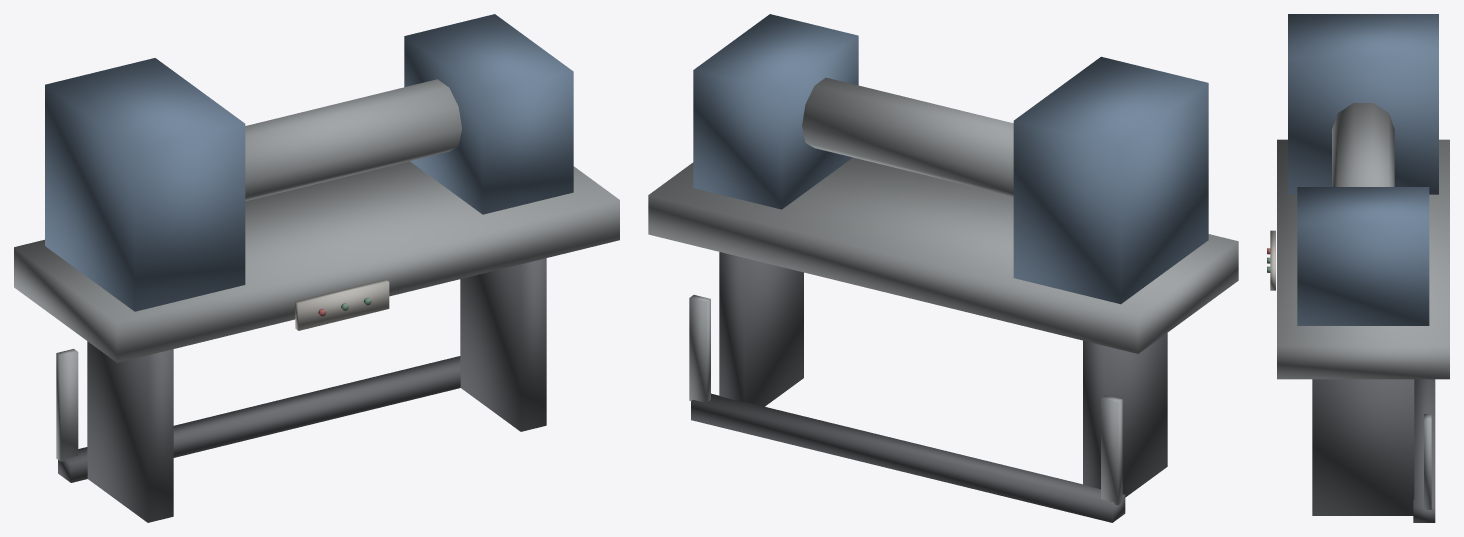
The model's file is metal_lathe_silhouette__reinforced.glb.
3 views of the same model, side by side, from view 1: azimuth 30°, elevation 25°; view 2: azimuth 150°, elevation 25°; view 3: azimuth 270°, elevation 25° (orthographic). The views are drawn at different scales.
Visible parts, largest first — view 1: world; view 2: world; view 3: world.
Part boxes in pixels (x1=…): world: x1=14, y1=14, x2=619, y2=522; world: x1=648, y1=14, x2=1238, y2=522; world: x1=1267, y1=14, x2=1449, y2=522.
Size of the model in its own units: 1.6 by 1.18 by 0.5984.
